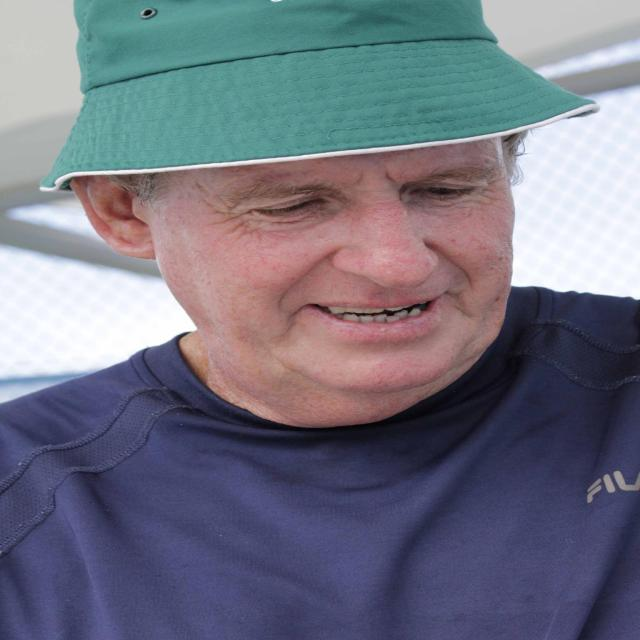Face: (122, 120, 544, 405)
